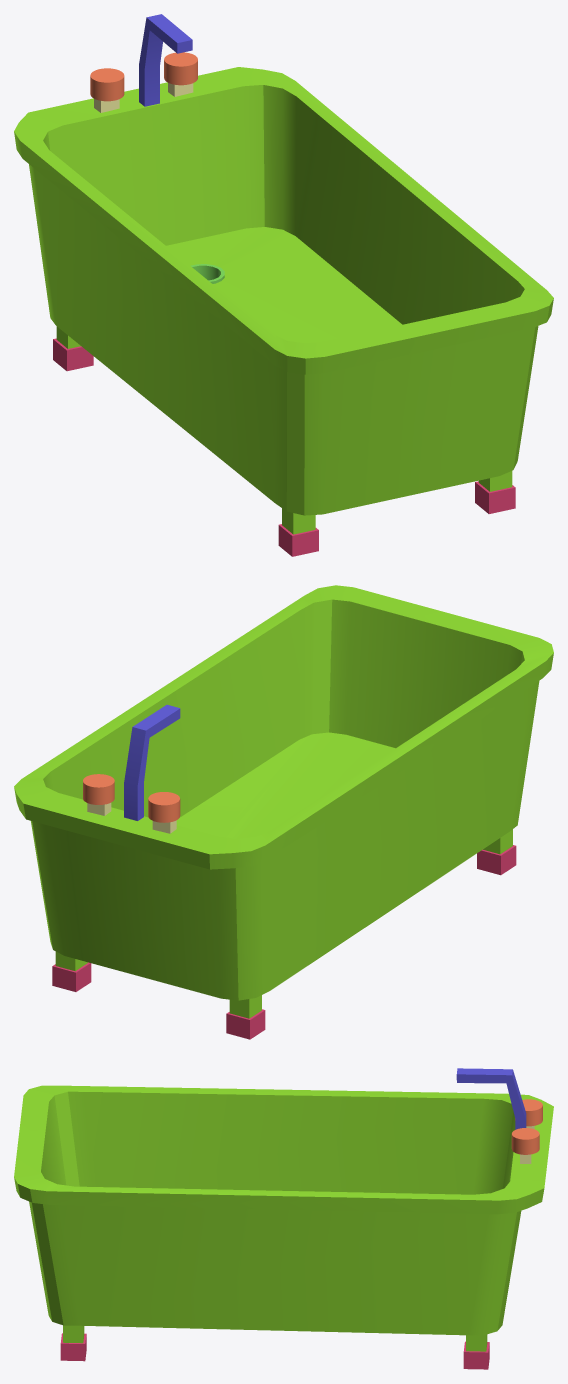
Rendered from 2bath.fbx.
The picture shows the model from 3 angles, top to bottom: view 1: azimuth 30°, elevation 25°; view 2: azimuth 150°, elevation 25°; view 3: azimuth 270°, elevation 25°; orthographic projection. The views are drawn at different scales.
Parts seen in each view (by area): view 1: 2bath; view 2: 2bath; view 3: 2bath.
Part boxes in pixels (box(x1,y1,x2,y2)): 2bath: box(14, 14, 553, 556); 2bath: box(14, 585, 553, 1039); 2bath: box(14, 1068, 553, 1369).
Size of the model in its own units: 64.18 by 65.81 by 127.
